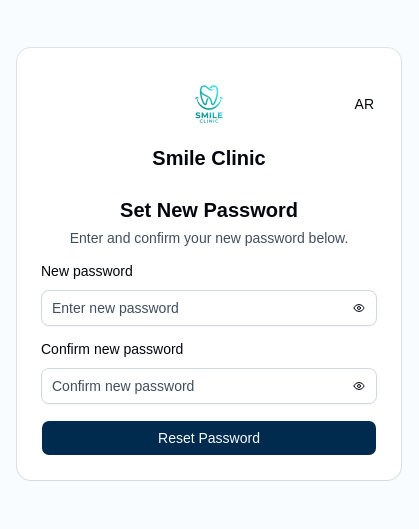
Test: ResetPasswordPage validation and errors (US3) › shows inline error on 422 validation failure and keeps form (RP-VT-016)
Type "newStrongPassword1" into the password field labelled "New password" at point(209, 308), box [41,290,377,326]
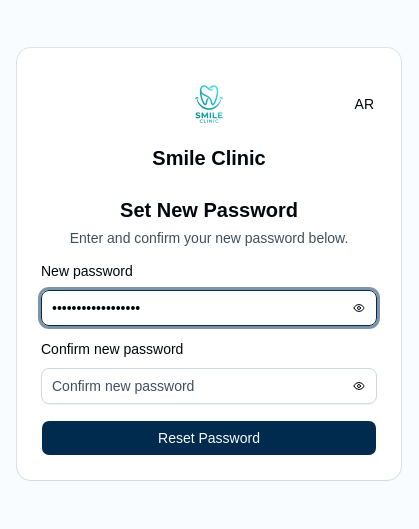
Type "newStrongPassword1" into the password field labelled "Confirm new password" at point(209, 386), box [41,368,377,404]
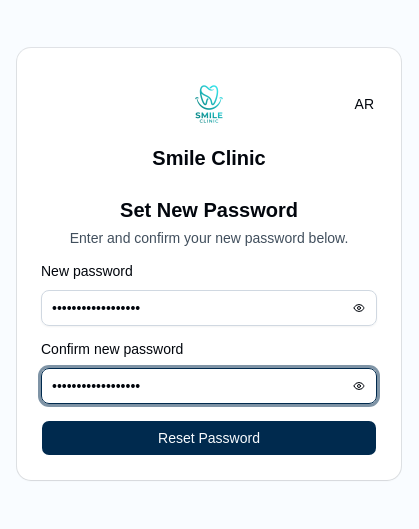
Click the button "Reset Password" at point(209, 438), box [41,420,377,456]
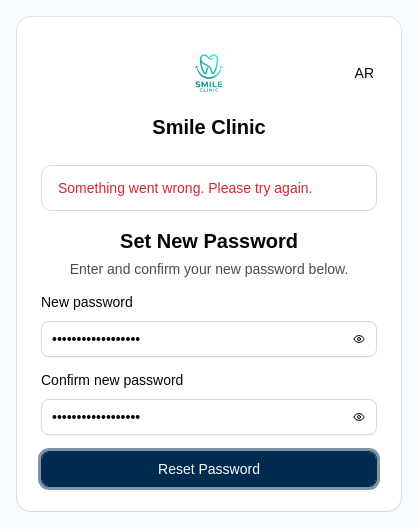
Check: the form is shown, box [41,165,377,487]
Check: the message "Something went wrong. Please try again." is shown, box [41,165,377,211]
